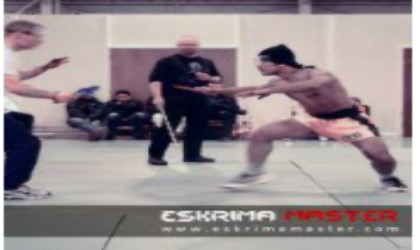baston_e: (160, 113, 180, 141)
